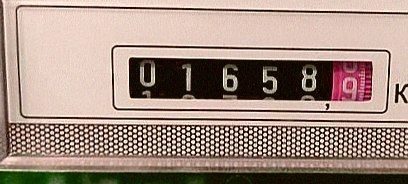0: (137, 56, 159, 88)
1: (181, 61, 195, 92)
5: (261, 63, 280, 95)
6: (221, 61, 242, 93)
8: (300, 61, 320, 94)
9: (340, 74, 358, 100)
screen: (104, 35, 396, 119)
